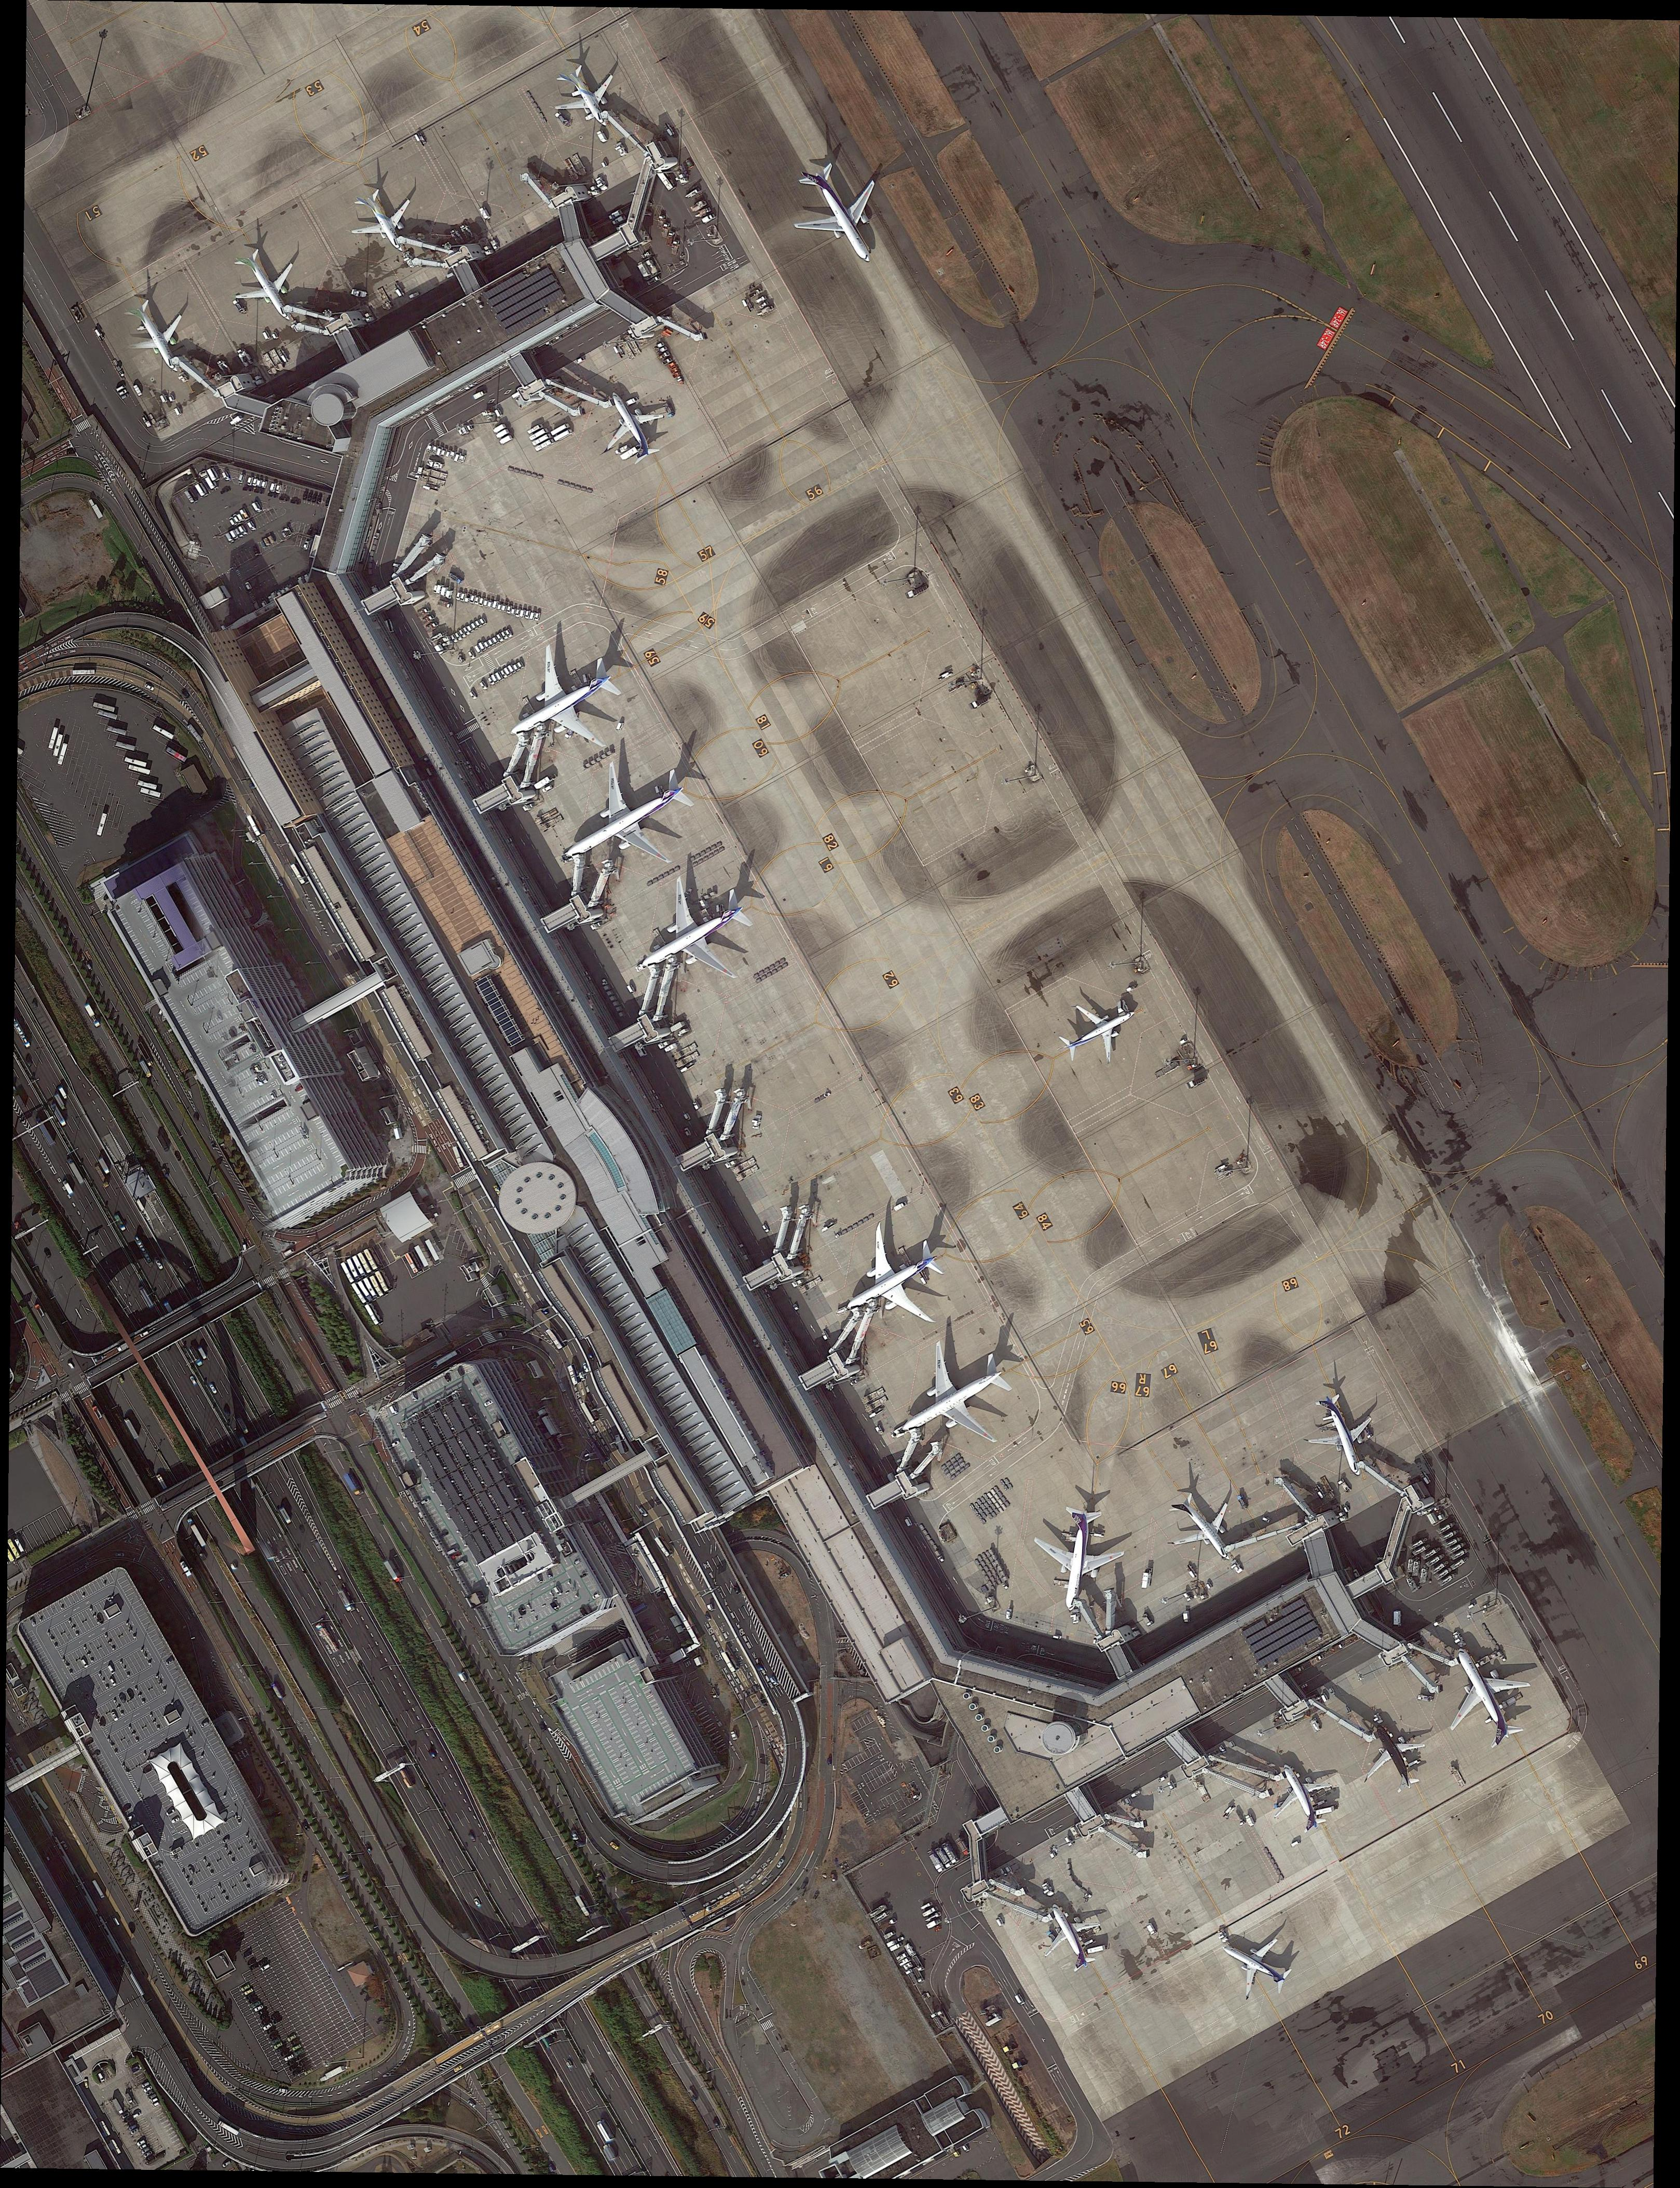plane: (598, 850, 782, 1032), (536, 741, 722, 918), (476, 621, 646, 794), (875, 1315, 1036, 1487), (805, 1198, 974, 1360), (773, 143, 911, 293), (1415, 1622, 1546, 1768), (1009, 1493, 1140, 1625), (1281, 1378, 1396, 1491), (1145, 1473, 1262, 1585), (1041, 981, 1151, 1087), (1255, 1752, 1357, 1865), (1202, 1906, 1313, 2006), (1345, 1706, 1442, 1817), (217, 236, 318, 339), (335, 176, 434, 275), (109, 281, 205, 383), (536, 51, 634, 148), (584, 379, 679, 478), (1025, 1890, 1121, 1989)
